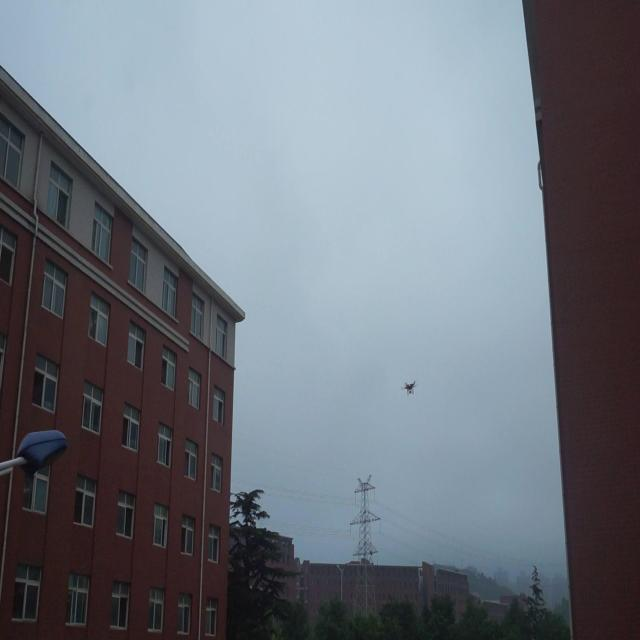drone: (402, 375, 421, 399)
